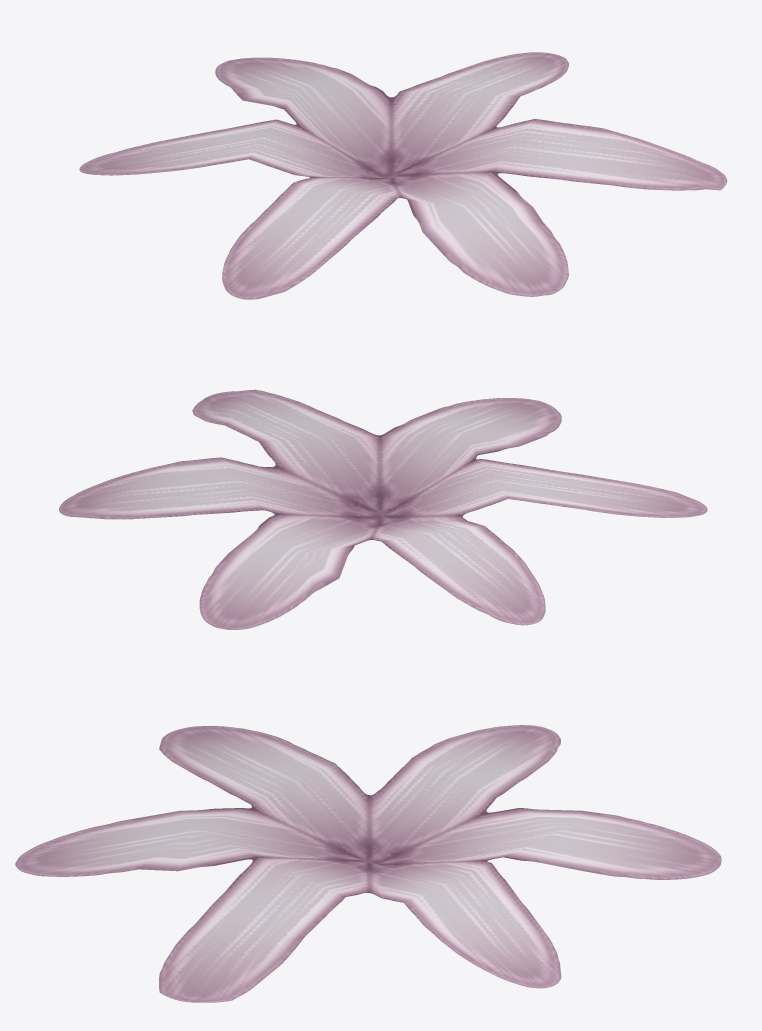
The model's file is Flower04.glb.
3 views of the same model, one above another, from view 1: azimuth 30°, elevation 25°; view 2: azimuth 150°, elevation 25°; view 3: azimuth 270°, elevation 25° (orthographic). The views are drawn at different scales.
Visible parts, largest first — view 1: Flower04; view 2: Flower04; view 3: Flower04.
Boxes of the visible parts, x1,y1,x2,y2 form: Flower04: (79, 52, 727, 299); Flower04: (59, 389, 707, 629); Flower04: (15, 725, 721, 1002).
Size of the model in its own units: 0.6029 by 0.0375 by 0.6029.
Materials: 1 (1 with a texture image).
